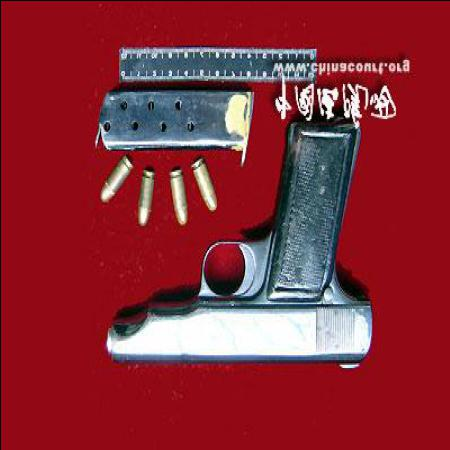Pistol: (101, 115, 371, 372)
